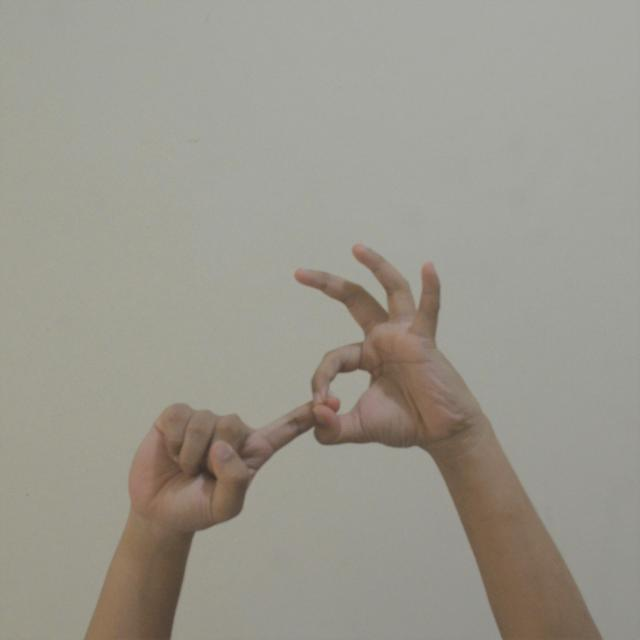Q: (99, 233, 488, 548)
